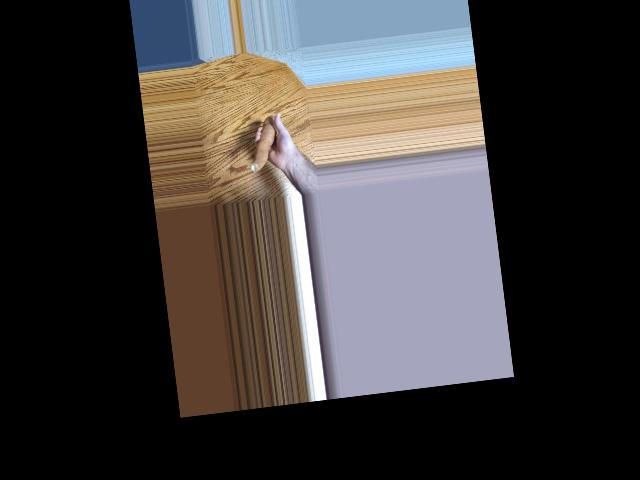sweet_potato: (245, 117, 281, 174)
